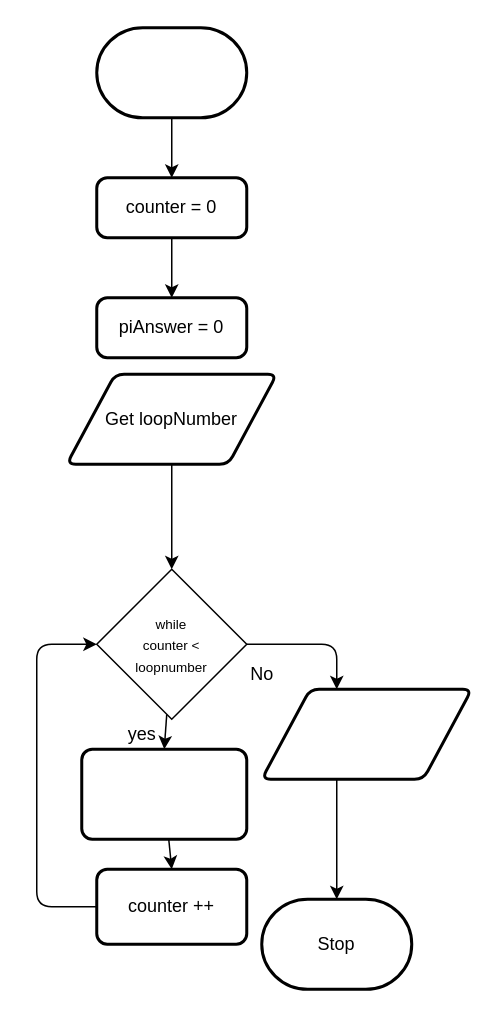
This 500x1016 diagram has some shape labels left out. The centre of each missing label's shape, as x and y in pixels:
"answer = answer + ((4) / (1+(2 * counter))) * (-1) ** counter" belongs at point (164, 793).
"print answer" belongs at point (366, 733).
"Start" belongs at point (171, 72).
